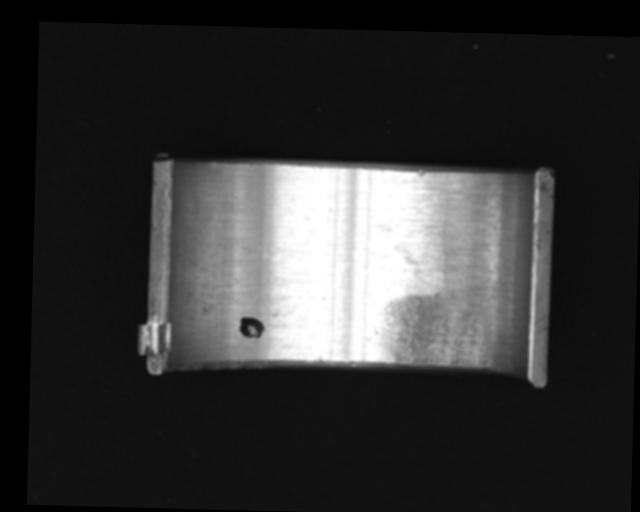blot: (237, 316, 265, 340)
bruise: (416, 168, 427, 178)
scratch: (371, 289, 497, 368)
